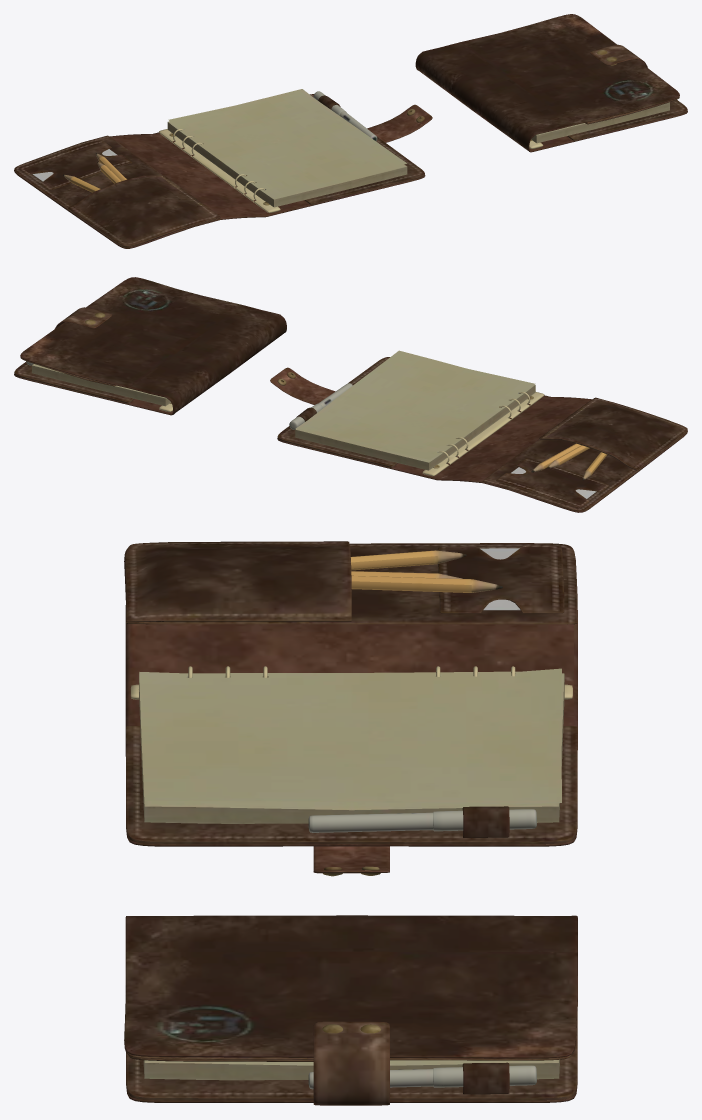
Rendered from binder_notebook_1k.gltf.
3 views of the same model, one above another, from view 1: azimuth 30°, elevation 25°; view 2: azimuth 150°, elevation 25°; view 3: azimuth 270°, elevation 25° (orthographic). The views are drawn at different scales.
Parts seen in each view (by area): view 1: binder_notebook, binder_notebook_closed; view 2: binder_notebook, binder_notebook_closed; view 3: binder_notebook, binder_notebook_closed.
Part boxes in pixels (box(x1,y1,x2,y2)): binder_notebook: box(14, 89, 432, 248); binder_notebook_closed: box(415, 14, 687, 152); binder_notebook: box(270, 350, 687, 512); binder_notebook_closed: box(14, 277, 286, 415); binder_notebook: box(124, 541, 577, 876); binder_notebook_closed: box(124, 915, 577, 1105).
Size of the model in its own units: 0.584 by 0.0253 by 0.2.
1 material, 1 textured.
